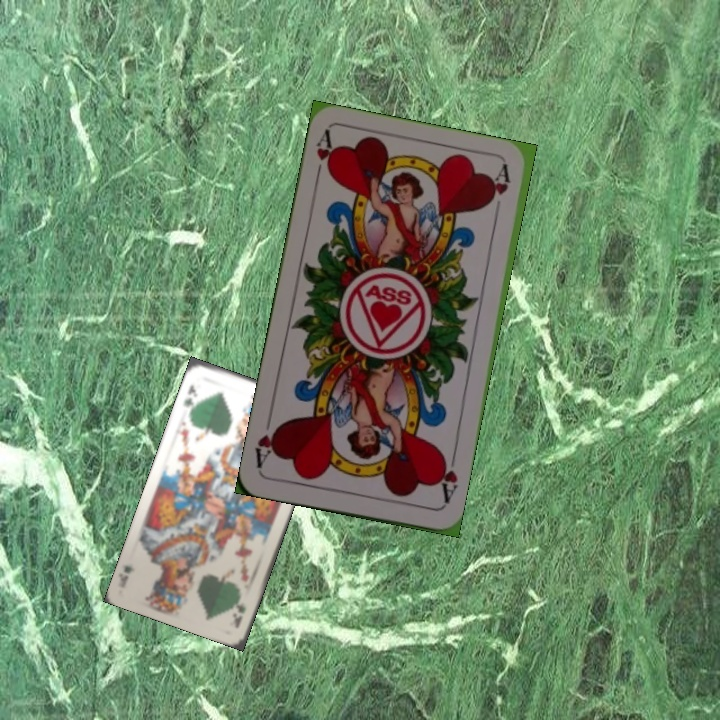GK: (179, 380, 200, 415), (230, 599, 248, 631)
HA: (433, 449, 460, 508), (311, 128, 338, 187)
